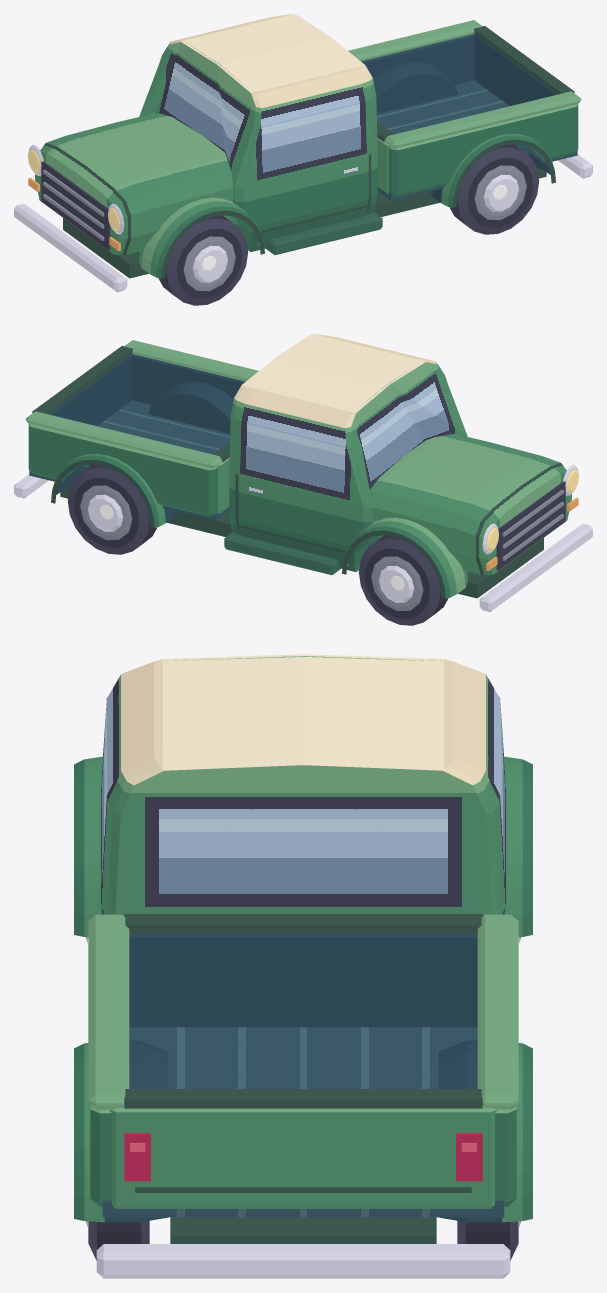
The picture shows the model from 3 angles, top to bottom: view 1: azimuth 30°, elevation 25°; view 2: azimuth 150°, elevation 25°; view 3: azimuth 270°, elevation 25°; orthographic projection. The views are drawn at different scales.
Visible parts, largest first — view 1: Body_static, Wheel_FL_tire_hub, Wheel_RL_tire_hub; view 2: Body_static, Wheel_FR_tire_hub, Wheel_RR_tire_hub; view 3: Body_static, Wheel_RL_tire_hub, Wheel_RR_tire_hub.
Part boxes in pixels (left/top/right/bottom): Body_static: left=14, top=14, right=592, bottom=292; Wheel_FL_tire_hub: left=158, top=215, right=248, bottom=305; Wheel_RL_tire_hub: left=449, top=144, right=539, bottom=234; Body_static: left=14, top=334, right=592, bottom=612; Wheel_FR_tire_hub: left=358, top=535, right=448, bottom=625; Wheel_RR_tire_hub: left=67, top=464, right=157, bottom=554; Body_static: left=74, top=654, right=532, bottom=1278; Wheel_RL_tire_hub: left=86, top=1220, right=149, bottom=1260; Wheel_RR_tire_hub: left=457, top=1220, right=520, bottom=1260.
Size of the model in its own units: 93.91 by 35.13 by 38.96.
1 material, 1 textured.
